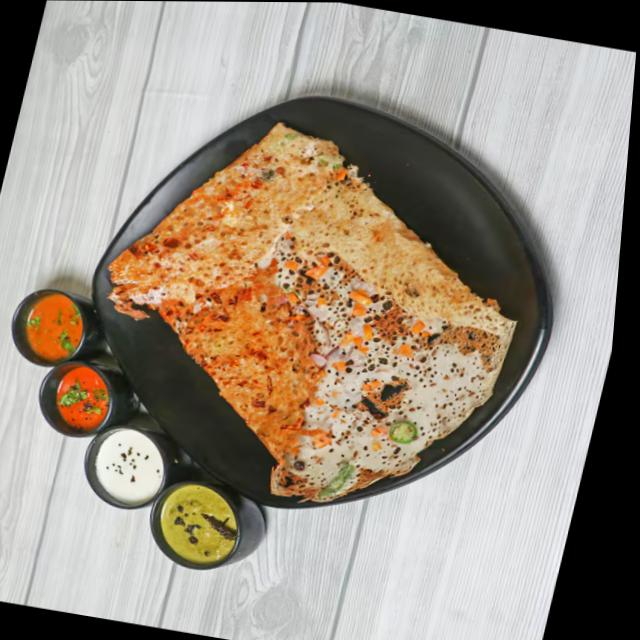DOSA: (98, 104, 543, 519)
GREEN CHUTNEY: (141, 476, 249, 578)
RED CHUTNEY: (30, 355, 117, 450)
SAMBAR: (4, 270, 97, 366)
WHITE CHUTNEY: (76, 416, 171, 514)
